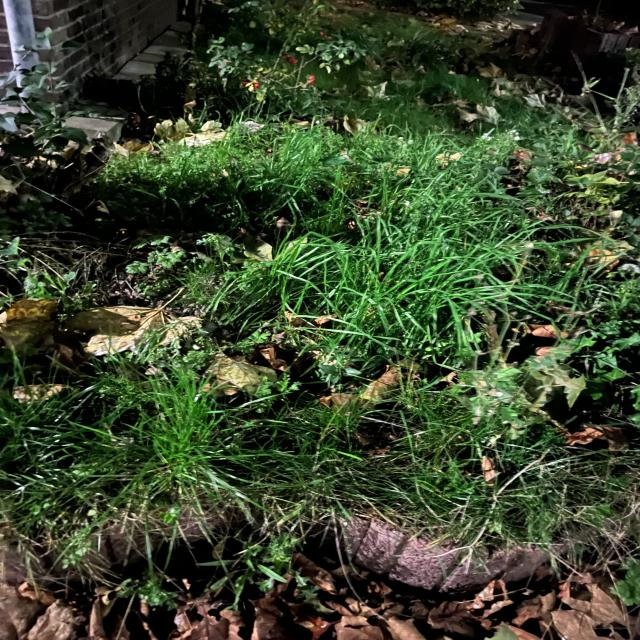leaves: (0, 592, 628, 640)
plants: (8, 75, 640, 487)
